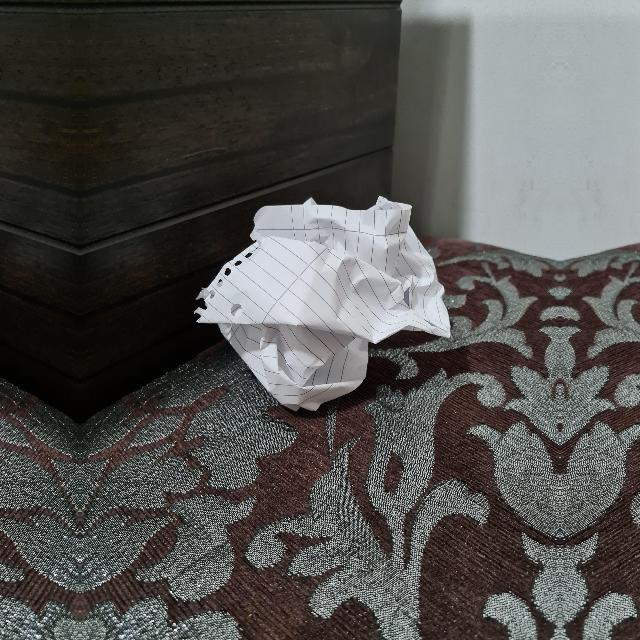paper: (193, 197, 452, 413)
